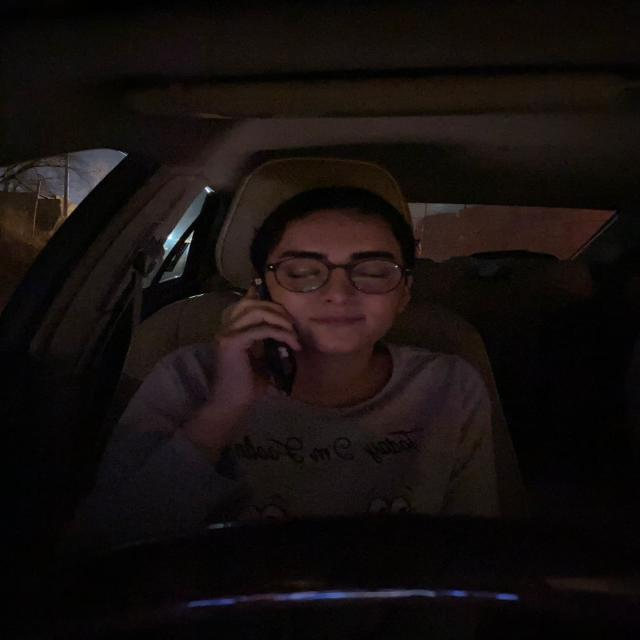phone: (252, 276, 293, 392)
